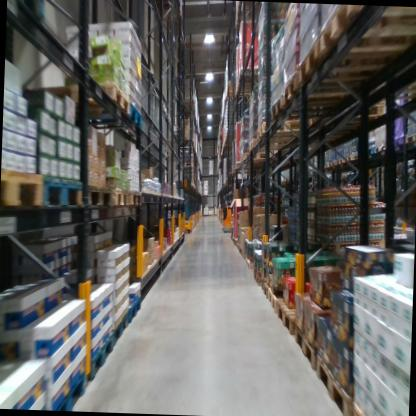forklift: (214, 153, 239, 235)
pallet: (10, 57, 129, 114), (317, 7, 416, 68), (295, 37, 402, 91), (80, 326, 121, 395), (268, 98, 350, 131), (284, 74, 380, 102), (315, 353, 354, 416), (1, 163, 49, 212), (57, 104, 145, 130), (38, 173, 88, 215), (45, 368, 90, 411), (256, 115, 317, 145), (291, 321, 321, 382), (274, 302, 313, 343), (108, 306, 132, 359), (9, 0, 51, 30), (83, 182, 114, 215), (247, 134, 292, 154), (236, 147, 275, 167), (236, 65, 267, 89), (112, 183, 131, 218), (266, 293, 290, 319), (129, 290, 142, 333), (389, 131, 409, 158), (124, 181, 139, 215), (252, 272, 270, 300), (358, 147, 377, 163), (334, 147, 346, 172), (343, 151, 360, 168), (404, 131, 416, 151), (328, 158, 338, 177), (244, 259, 258, 271), (320, 162, 331, 176), (181, 159, 194, 168), (242, 253, 248, 264), (238, 245, 243, 256), (233, 239, 237, 249), (236, 241, 239, 250)
